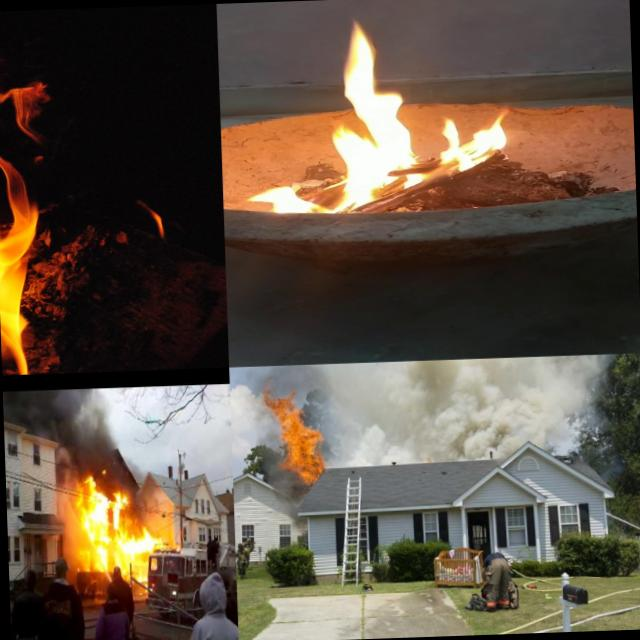fire: (248, 9, 512, 219), (0, 7, 110, 375), (264, 386, 326, 486), (80, 478, 148, 568), (146, 526, 168, 546)
smoke: (322, 358, 602, 468), (52, 388, 115, 482), (2, 390, 54, 437), (54, 476, 84, 538)
